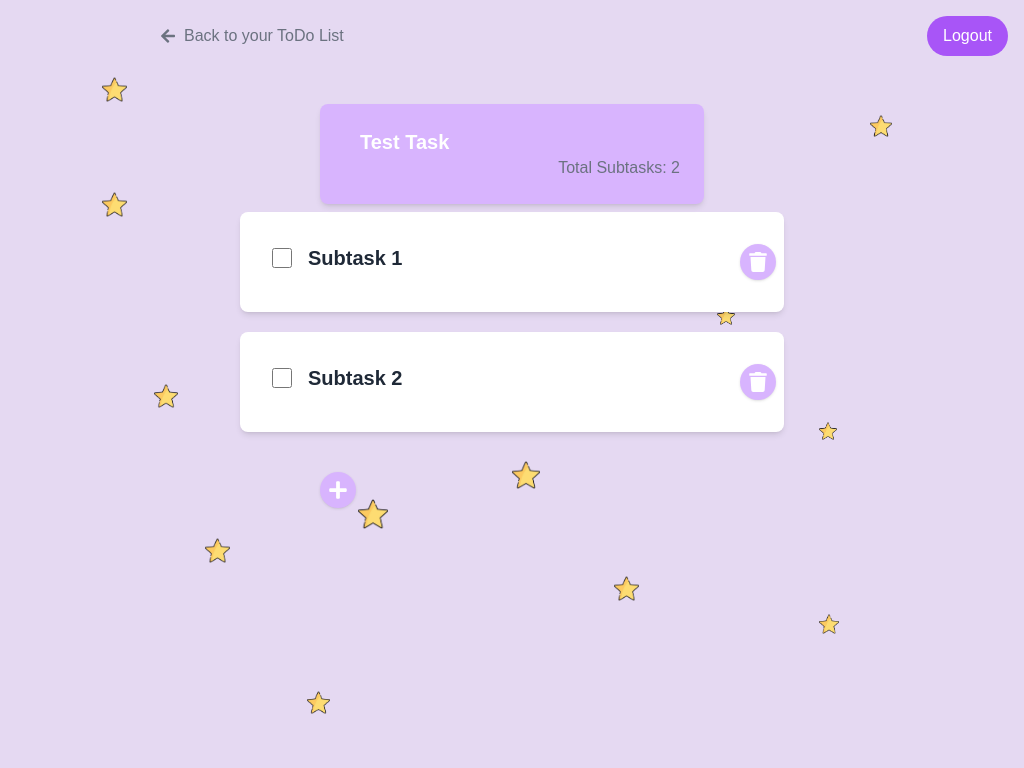
Test case: TaskPage Component › deletes a subtask successfully
Click the button without text in the row of "Subtask 1". click: click(758, 262)
box: [740,244,776,280]
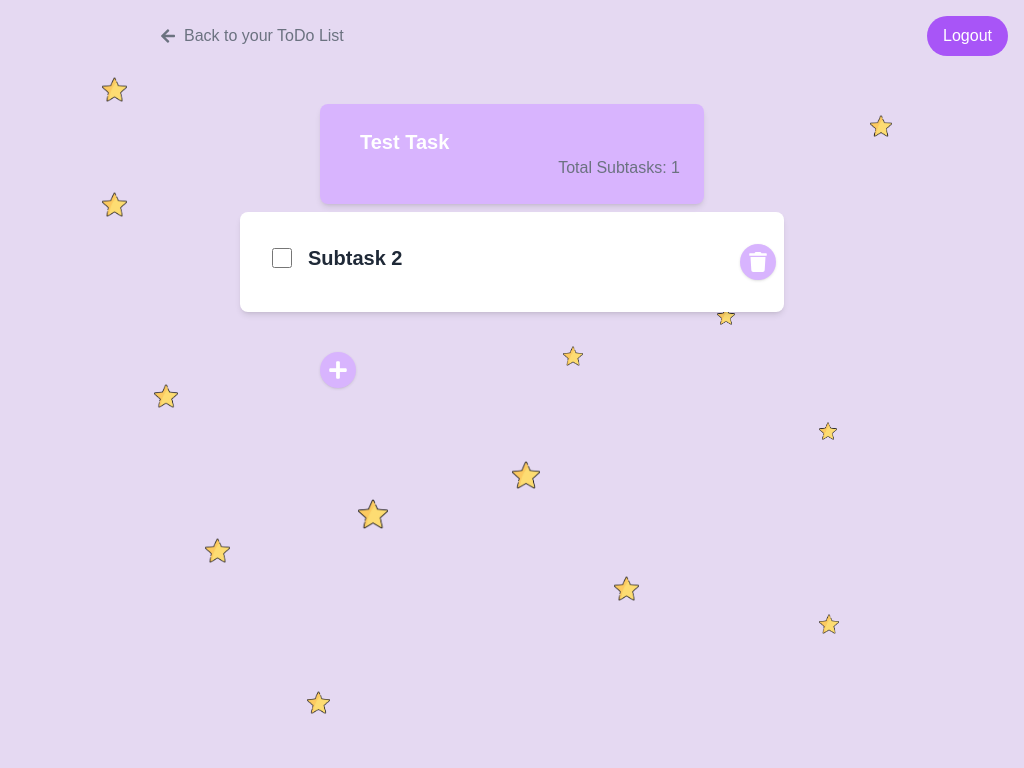
Check: the heading "Subtask 1" is gone
